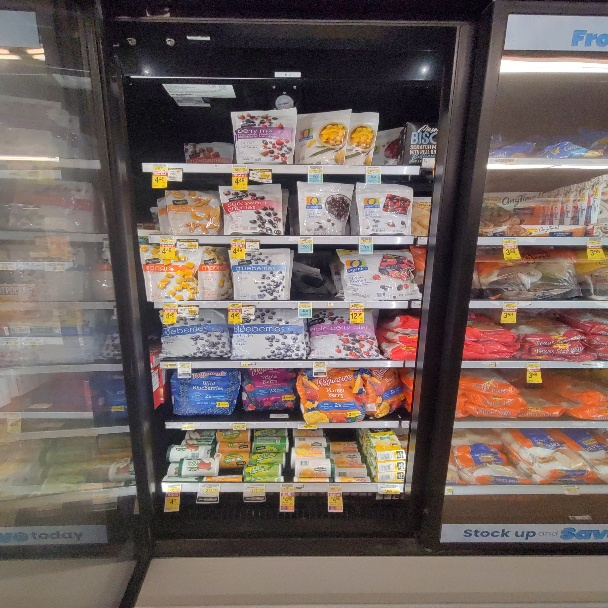All PRICE TAGS: (176, 240, 197, 249), (378, 484, 402, 491), (200, 482, 221, 490), (178, 305, 199, 313), (563, 484, 578, 495), (164, 482, 182, 491), (281, 483, 301, 491), (244, 483, 265, 490), (298, 423, 316, 430), (365, 166, 380, 174), (152, 163, 167, 171), (307, 166, 324, 173), (239, 361, 258, 367), (229, 301, 245, 308), (503, 300, 517, 308), (587, 238, 601, 246), (247, 240, 259, 249), (327, 484, 342, 491), (160, 236, 175, 243), (232, 165, 247, 172), (504, 237, 517, 245), (230, 422, 247, 428), (349, 301, 363, 308), (297, 302, 311, 309), (242, 306, 256, 313), (232, 238, 246, 245), (181, 422, 197, 428), (169, 169, 182, 176), (359, 237, 372, 244), (299, 237, 312, 244), (527, 361, 540, 368), (313, 361, 327, 367), (178, 362, 192, 368), (168, 422, 180, 427), (164, 363, 175, 368)
